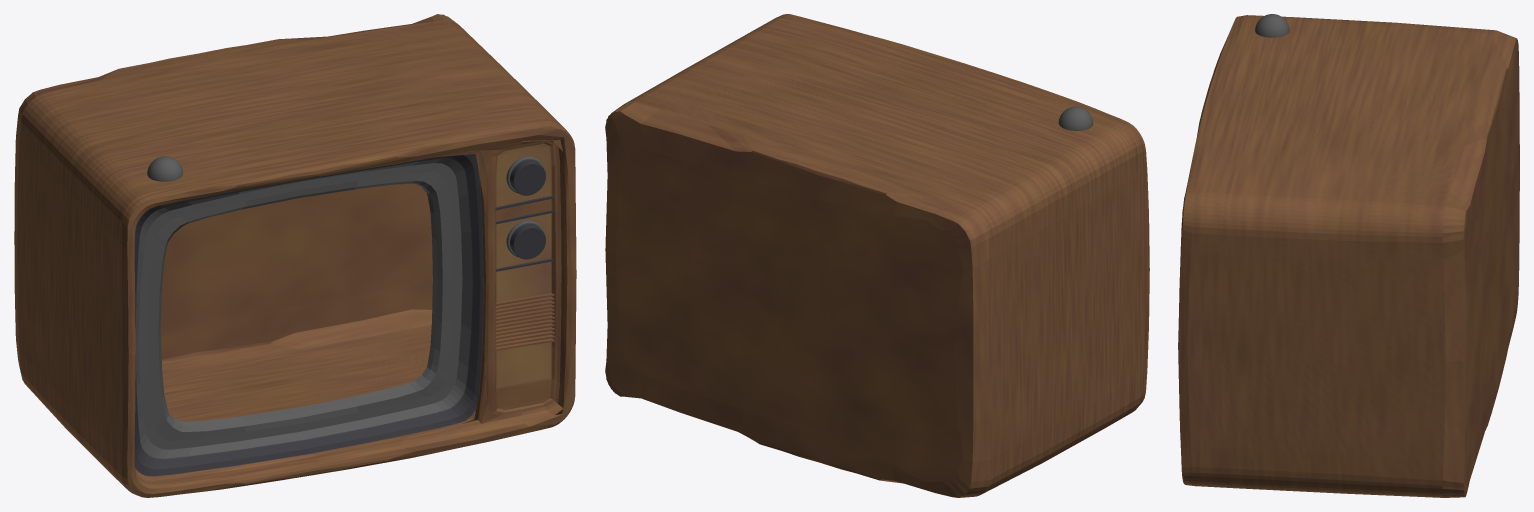
3 renders of one model, left to right at view 1: azimuth 30°, elevation 25°; view 2: azimuth 150°, elevation 25°; view 3: azimuth 270°, elevation 25°, orthographic. The views are drawn at different scales.
Parts seen in each view (by area): view 1: tv.002; view 2: tv.002; view 3: tv.002.
Part boxes in pixels (x1=…): tv.002: x1=14, y1=14, x2=576, y2=497; tv.002: x1=605, y1=14, x2=1149, y2=497; tv.002: x1=1178, y1=14, x2=1519, y2=497.
Bounding box in the file's own units: 332 × 229 × 227.
1 material, 1 textured.
